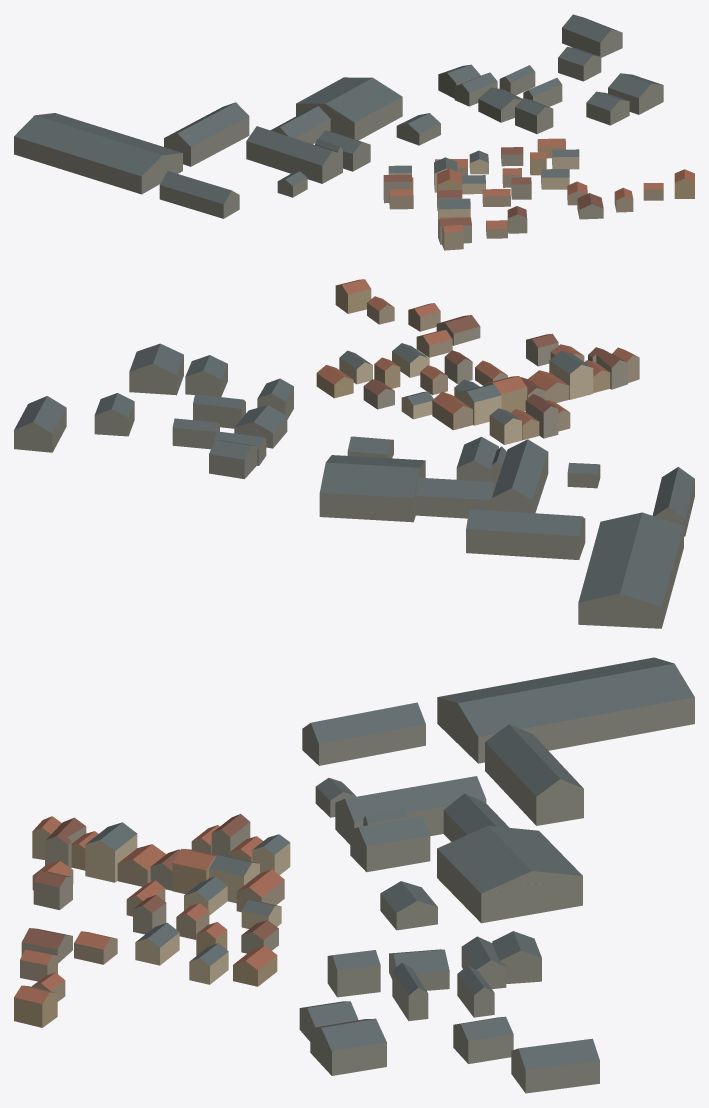
The picture shows the model from 3 angles, top to bottom: view 1: azimuth 30°, elevation 25°; view 2: azimuth 150°, elevation 25°; view 3: azimuth 270°, elevation 25°; orthographic projection. The views are drawn at different scales.
Parts seen in each view (by area): view 1: C_3_4; view 2: C_3_4; view 3: C_3_4.
Part boxes in pixels (box(x1,y1,x2,y2)): C_3_4: box(14, 14, 694, 250); C_3_4: box(14, 279, 694, 628); C_3_4: box(14, 657, 694, 1093).
Size of the model in its own units: 318 by 15.72 by 224.
